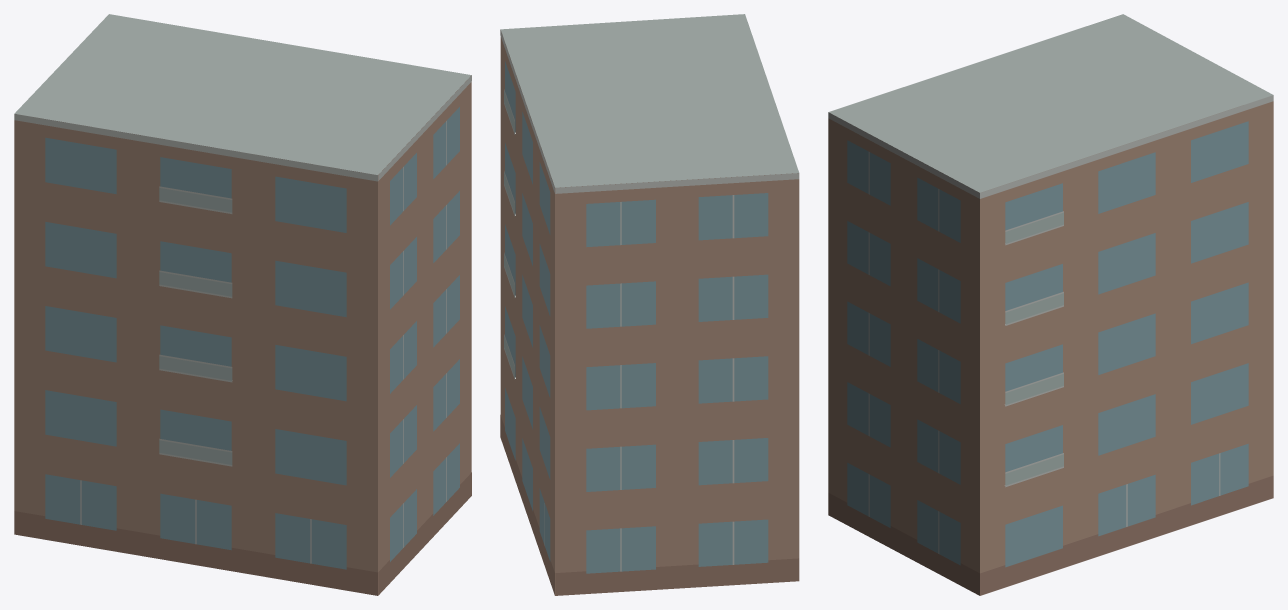
The model's file is survey-upis-32672418.glb.
3 renders of one model, left to right at view 1: azimuth 30°, elevation 25°; view 2: azimuth 150°, elevation 25°; view 3: azimuth 270°, elevation 25°, orthographic. The views are drawn at different scales.
Visible parts, largest first — view 1: survey-upis-32672418.tmp; view 2: survey-upis-32672418.tmp; view 3: survey-upis-32672418.tmp.
Part boxes in pixels (<box>): survey-upis-32672418.tmp: <box>14,14,471,595</box>; survey-upis-32672418.tmp: <box>500,14,799,595</box>; survey-upis-32672418.tmp: <box>828,14,1273,595</box>.
Bounding box in the file's own units: 15.34 × 16.1 × 16.13.
